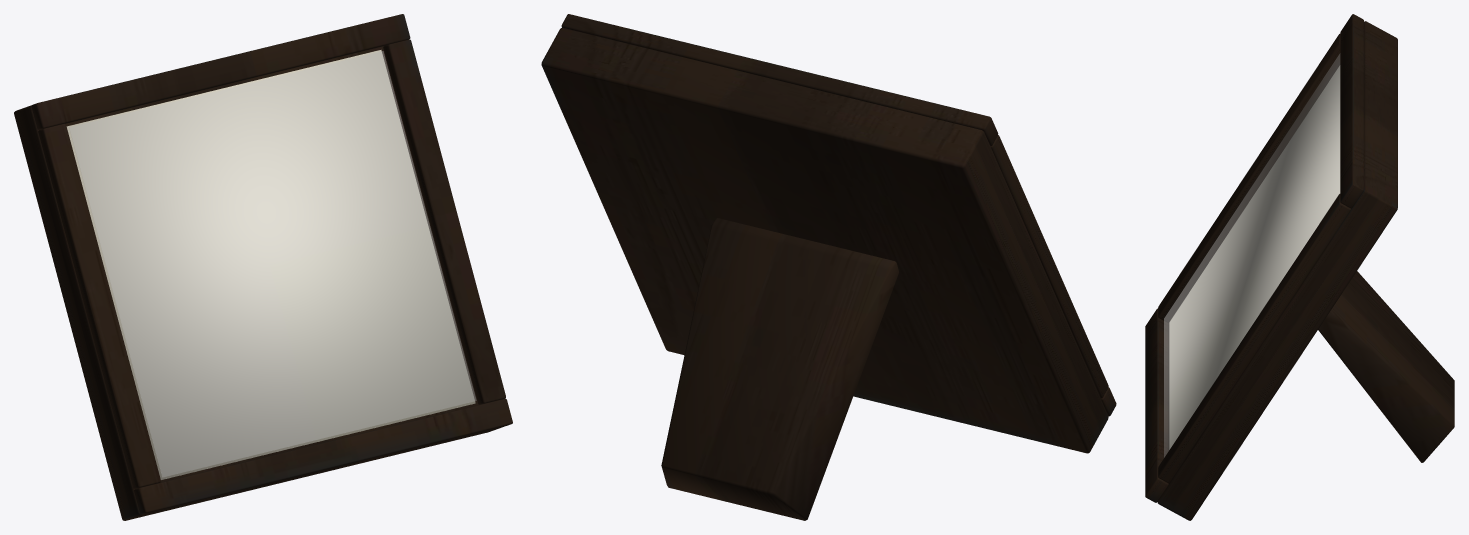
File: square-wood-photo-frame-mobile.glb
3 renders of one model, left to right at view 1: azimuth 30°, elevation 25°; view 2: azimuth 150°, elevation 25°; view 3: azimuth 270°, elevation 25°, orthographic. The views are drawn at different scales.
Visible parts, largest first — view 1: Photo_Slot, Frame_Glass, Frame_Back, Frame_Lip_2, Frame_Lip_3, Frame_Lip_1, Frame_Lip_0; view 2: Frame_Back, Frame_Stand, Frame_Lip_0, Frame_Lip_2; view 3: Frame_Glass, Photo_Slot, Frame_Back, Frame_Stand, Frame_Lip_3, Frame_Lip_2, Frame_Lip_0, Frame_Lip_1.
Boxes of the visible parts, x1,y1,x2,y2 form: Photo_Slot: (66, 50, 475, 479); Frame_Glass: (69, 51, 476, 476); Frame_Back: (14, 46, 503, 520); Frame_Lip_2: (38, 123, 160, 489); Frame_Lip_3: (383, 39, 505, 404); Frame_Lip_1: (134, 398, 512, 514); Frame_Lip_0: (31, 14, 410, 130); Frame_Back: (541, 28, 1108, 453); Frame_Stand: (661, 218, 898, 520); Frame_Lip_0: (561, 14, 998, 145); Frame_Lip_2: (990, 135, 1108, 398); Frame_Glass: (1164, 54, 1339, 457); Photo_Slot: (1169, 65, 1340, 449); Frame_Back: (1157, 21, 1397, 520); Frame_Stand: (1318, 271, 1454, 462); Frame_Lip_3: (1158, 194, 1350, 483); Frame_Lip_2: (1158, 34, 1340, 322); Frame_Lip_0: (1340, 14, 1363, 208); Frame_Lip_1: (1145, 308, 1168, 502).
Bounding box in the file's own units: 0.18 × 0.1659 × 0.1379.
4 materials, 3 textured.
